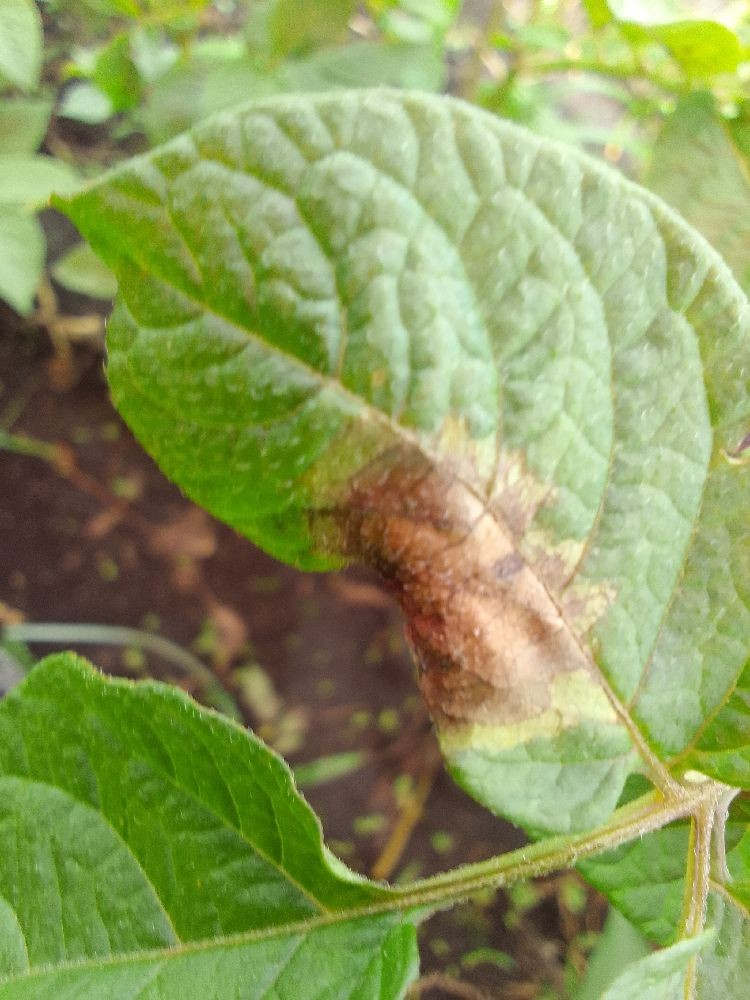late_blight: (381, 841, 635, 1000), (23, 98, 163, 180), (26, 0, 99, 107)
